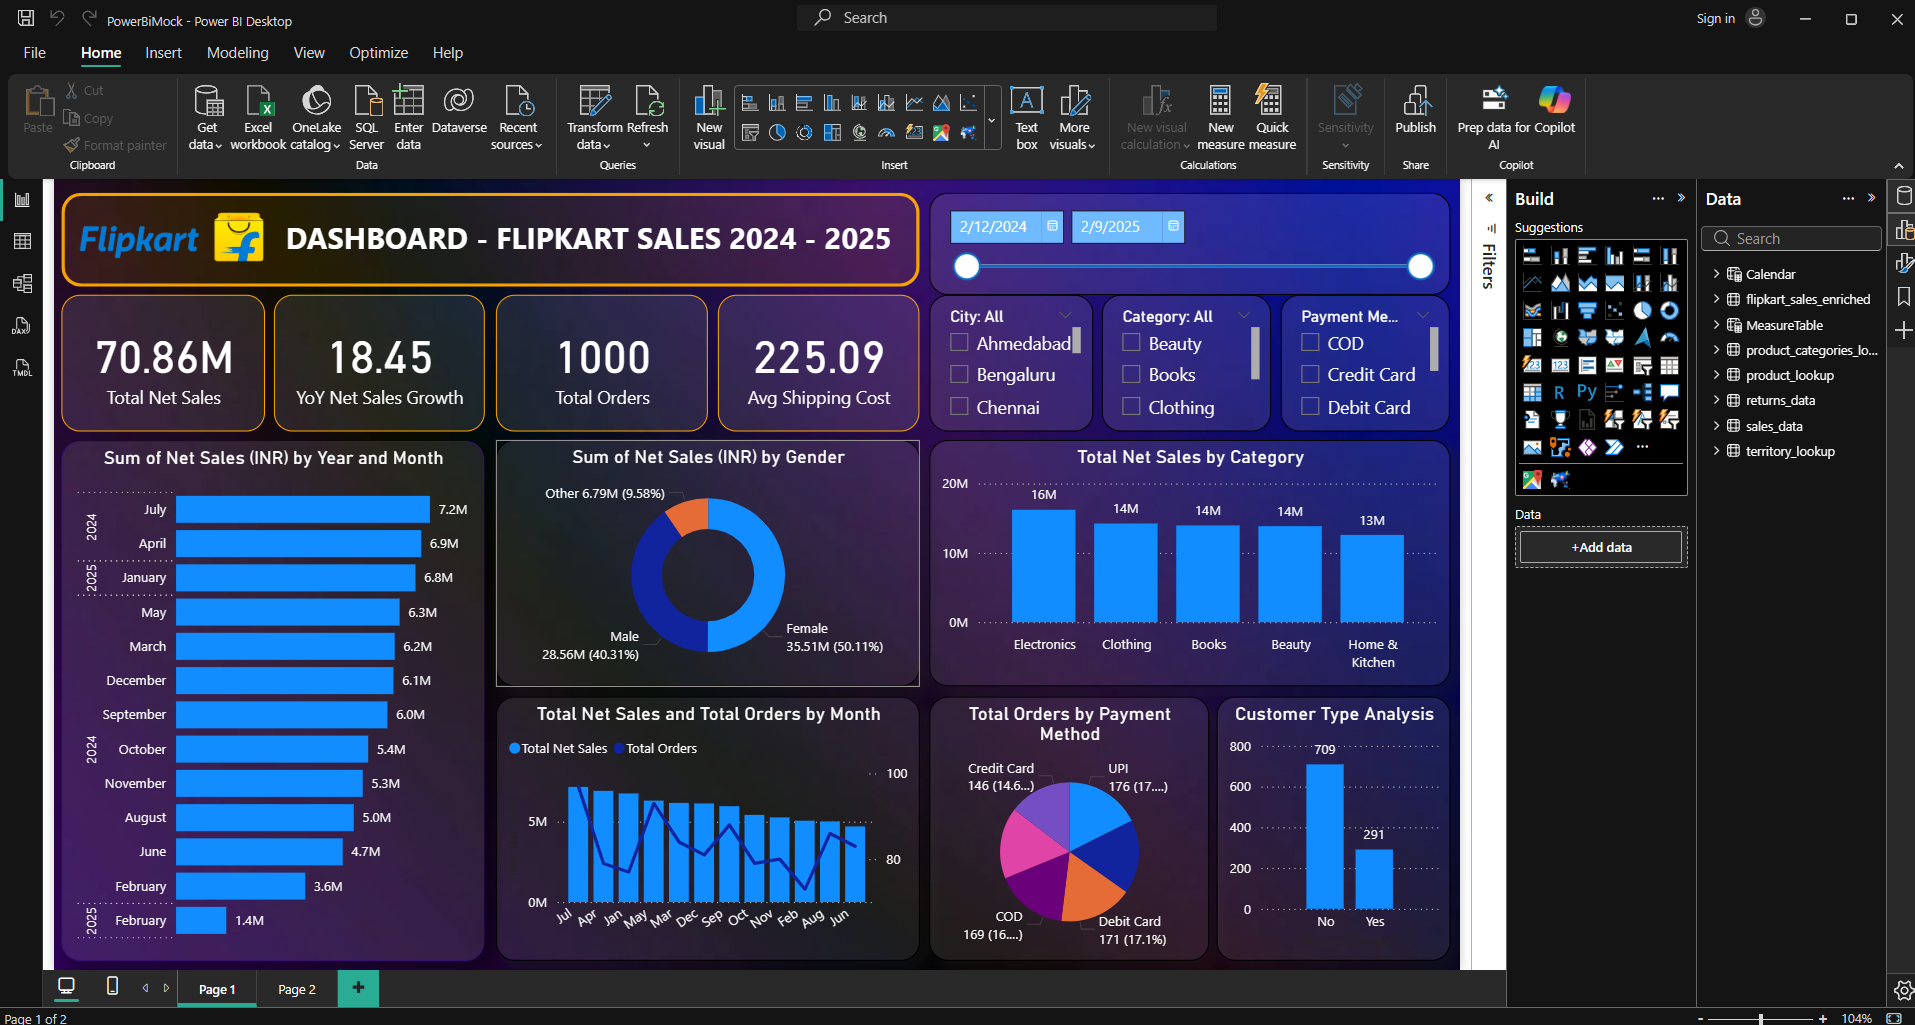

The page's visual inventory and layout, read from the dashboard file:
{"tool":"powerbi","page":{"name":"Page 1","canvas":[1280,720],"ordinal":0},"visuals":[{"type":"shape","box":[6.7,12.2,781.1,85.6],"z":0},{"type":"card","fields":{"Values":["MeasureTable.Total Net Sales"]},"box":[6.7,105.6,185.6,124.4],"z":1000},{"type":"card","fields":{"Values":["MeasureTable.Total Orders"]},"box":[402.2,105.6,193.3,124.4],"z":2000},{"type":"lineClusteredColumnComboChart","fields":{"Category":["Calendar.Month"],"Y":["MeasureTable.Total Net Sales"],"Y2":["MeasureTable.Total Orders"]},"box":[402,471,386,240],"z":3000},{"type":"barChart","fields":{"Category":["Calendar.Date.Variation.Date Hierarchy.Year","Calendar.Date.Variation.Date Hierarchy.Month"],"Y":["Sum(flipkart_sales_enriched.Net Sales (INR))"]},"box":[7,238,385,473],"z":4000},{"type":"card","fields":{"Values":["MeasureTable.YoY Net Sales Growth"]},"box":[200,105.6,192.2,124.4],"z":5000},{"type":"card","fields":{"Values":["MeasureTable.Avg Shipping Cost"]},"box":[604.4,105.6,183.3,124.4],"z":7000},{"type":"pieChart","fields":{"Category":["flipkart_sales_enriched.Payment Method"],"Y":["MeasureTable.Total Orders"]},"box":[796.7,471.1,254.4,240],"z":8000},{"type":"clusteredColumnChart","fields":{"Category":["flipkart_sales_enriched.Category"],"Y":["MeasureTable.Total Net Sales"]},"box":[796.7,237.8,474.4,224.4],"z":9000},{"type":"textbox","box":[205.6,31.1,573.3,50],"z":10000},{"type":"slicer","fields":{"Values":["flipkart_sales_enriched.City"]},"box":[796.7,105.6,148.9,124.4],"z":11000},{"type":"slicer","fields":{"Values":["flipkart_sales_enriched.Category"]},"box":[953.3,105.6,154.4,124.4],"z":12000},{"type":"slicer","fields":{"Values":["flipkart_sales_enriched.Order Date"]},"box":[796.6,12,474.5,93.6],"z":13000},{"type":"slicer","fields":{"Values":["flipkart_sales_enriched.Payment Method"]},"box":[1116.7,105.6,154.4,124.4],"z":14000},{"type":"clusteredColumnChart","title":"Customer Type Analysis","fields":{"Category":["flipkart_sales_enriched.Repeat Customer"],"Y":["MeasureTable.Total Orders"]},"box":[1057.8,471.1,213.3,240],"z":15000},{"type":"image","box":[14.4,0,185.6,105.6],"z":16000},{"type":"donutChart","fields":{"Category":["flipkart_sales_enriched.Gender"],"Y":["Sum(flipkart_sales_enriched.Net Sales (INR))"]},"box":[402.2,237.8,385.6,224.4],"z":16500}]}

Visuals, with their boxes on the page's 1280x720 design canvas (x1, y1, x2, y2). These are canvas units, not pixel positions in the 1915x1025 screenshot, which may show the page scaled, cropped or inside an application window:
shape: pyautogui.locateOnScreen(7, 12, 788, 98)
card - MeasureTable.Total Net Sales: pyautogui.locateOnScreen(7, 106, 192, 230)
card - MeasureTable.Total Orders: pyautogui.locateOnScreen(402, 106, 596, 230)
lineClusteredColumnComboChart - Calendar.Month x MeasureTable.Total Net Sales: pyautogui.locateOnScreen(402, 471, 788, 711)
barChart - Calendar.Date.Variation.Date Hierarchy.Year x Calendar.Date.Variation.Date Hierarchy.Month: pyautogui.locateOnScreen(7, 238, 392, 711)
card - MeasureTable.YoY Net Sales Growth: pyautogui.locateOnScreen(200, 106, 392, 230)
card - MeasureTable.Avg Shipping Cost: pyautogui.locateOnScreen(604, 106, 788, 230)
pieChart - flipkart_sales_enriched.Payment Method x MeasureTable.Total Orders: pyautogui.locateOnScreen(797, 471, 1051, 711)
clusteredColumnChart - flipkart_sales_enriched.Category x MeasureTable.Total Net Sales: pyautogui.locateOnScreen(797, 238, 1271, 462)
textbox: pyautogui.locateOnScreen(206, 31, 779, 81)
slicer - flipkart_sales_enriched.City: pyautogui.locateOnScreen(797, 106, 946, 230)
slicer - flipkart_sales_enriched.Category: pyautogui.locateOnScreen(953, 106, 1108, 230)
slicer - flipkart_sales_enriched.Order Date: pyautogui.locateOnScreen(797, 12, 1271, 106)
slicer - flipkart_sales_enriched.Payment Method: pyautogui.locateOnScreen(1117, 106, 1271, 230)
"Customer Type Analysis" clusteredColumnChart: pyautogui.locateOnScreen(1058, 471, 1271, 711)
image: pyautogui.locateOnScreen(14, 0, 200, 106)
donutChart - flipkart_sales_enriched.Gender x Sum(flipkart_sales_enriched.Net Sales (INR)): pyautogui.locateOnScreen(402, 238, 788, 462)
